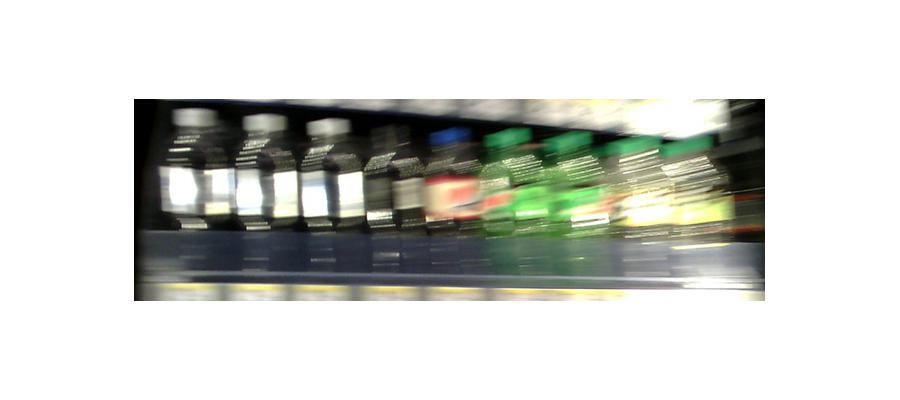bottle: (428, 136, 484, 238)
